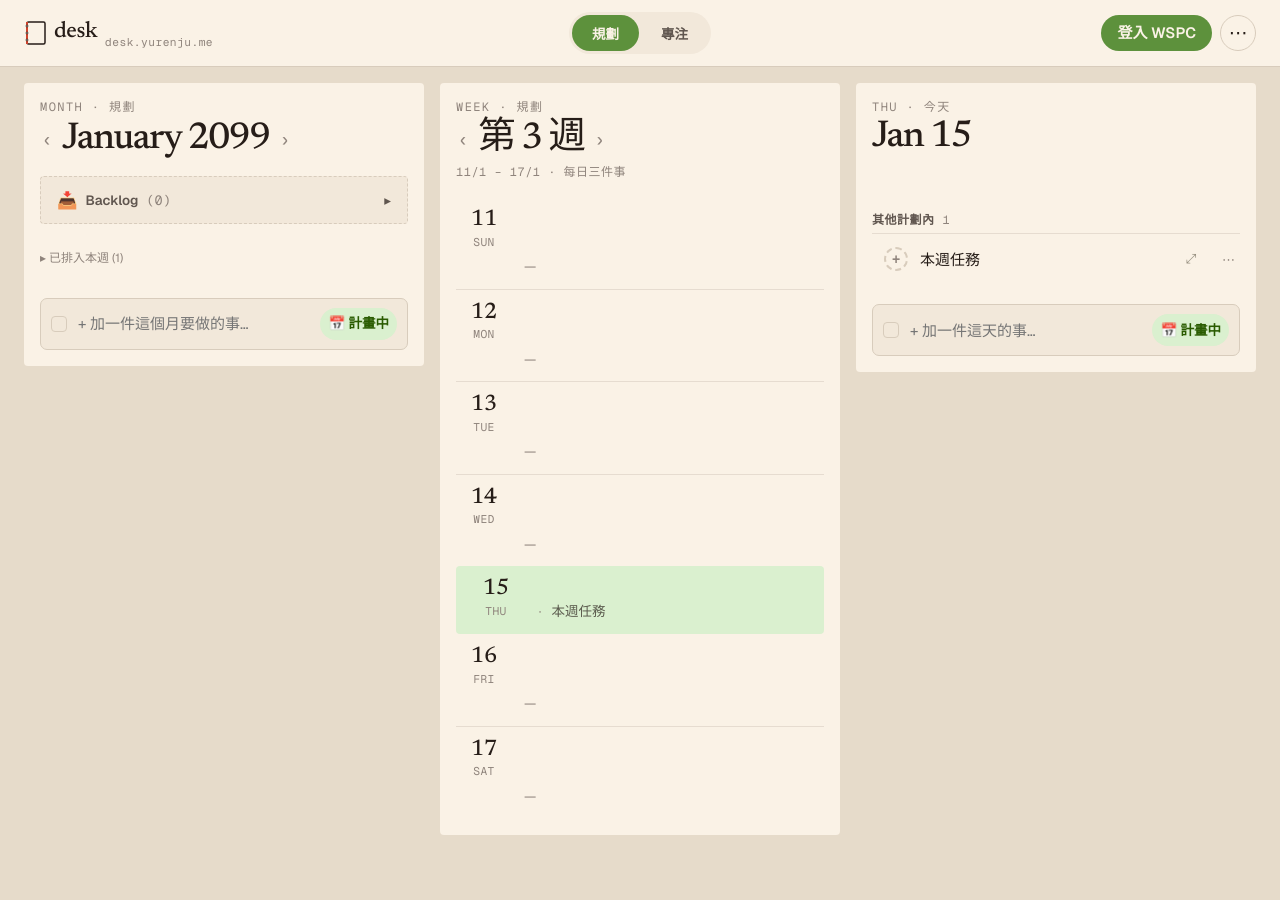
Test case: groups a task scheduled into the viewed week under 已排入本週 with a weekday chip
Click the button "▸ 已排入本週 (1)" at (82, 257), box [40,240,123,274]
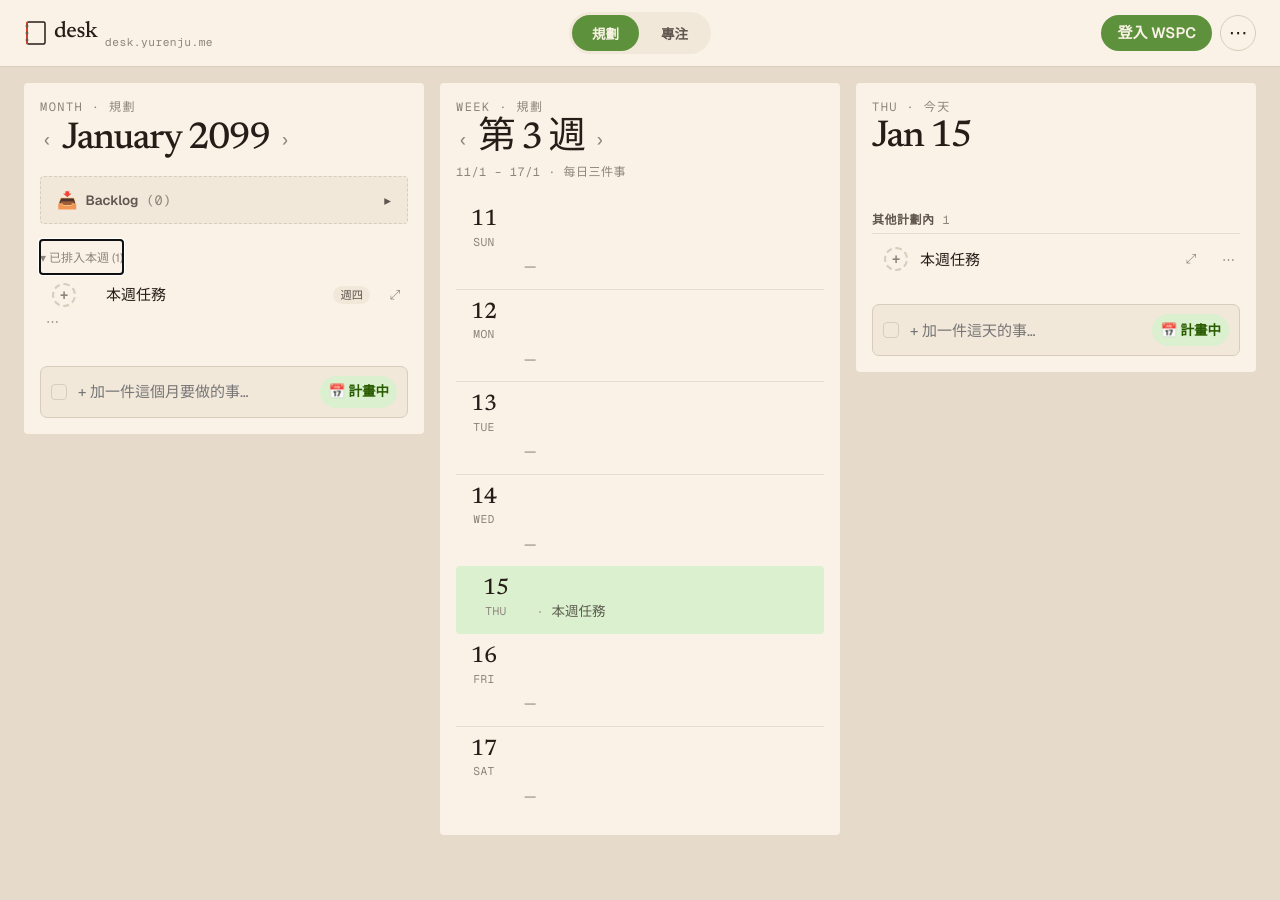
Check: the text "本週任務" next to "週四" is shown, box [106,285,166,304]
Check: the text "週四" is shown, box [334,286,370,304]
